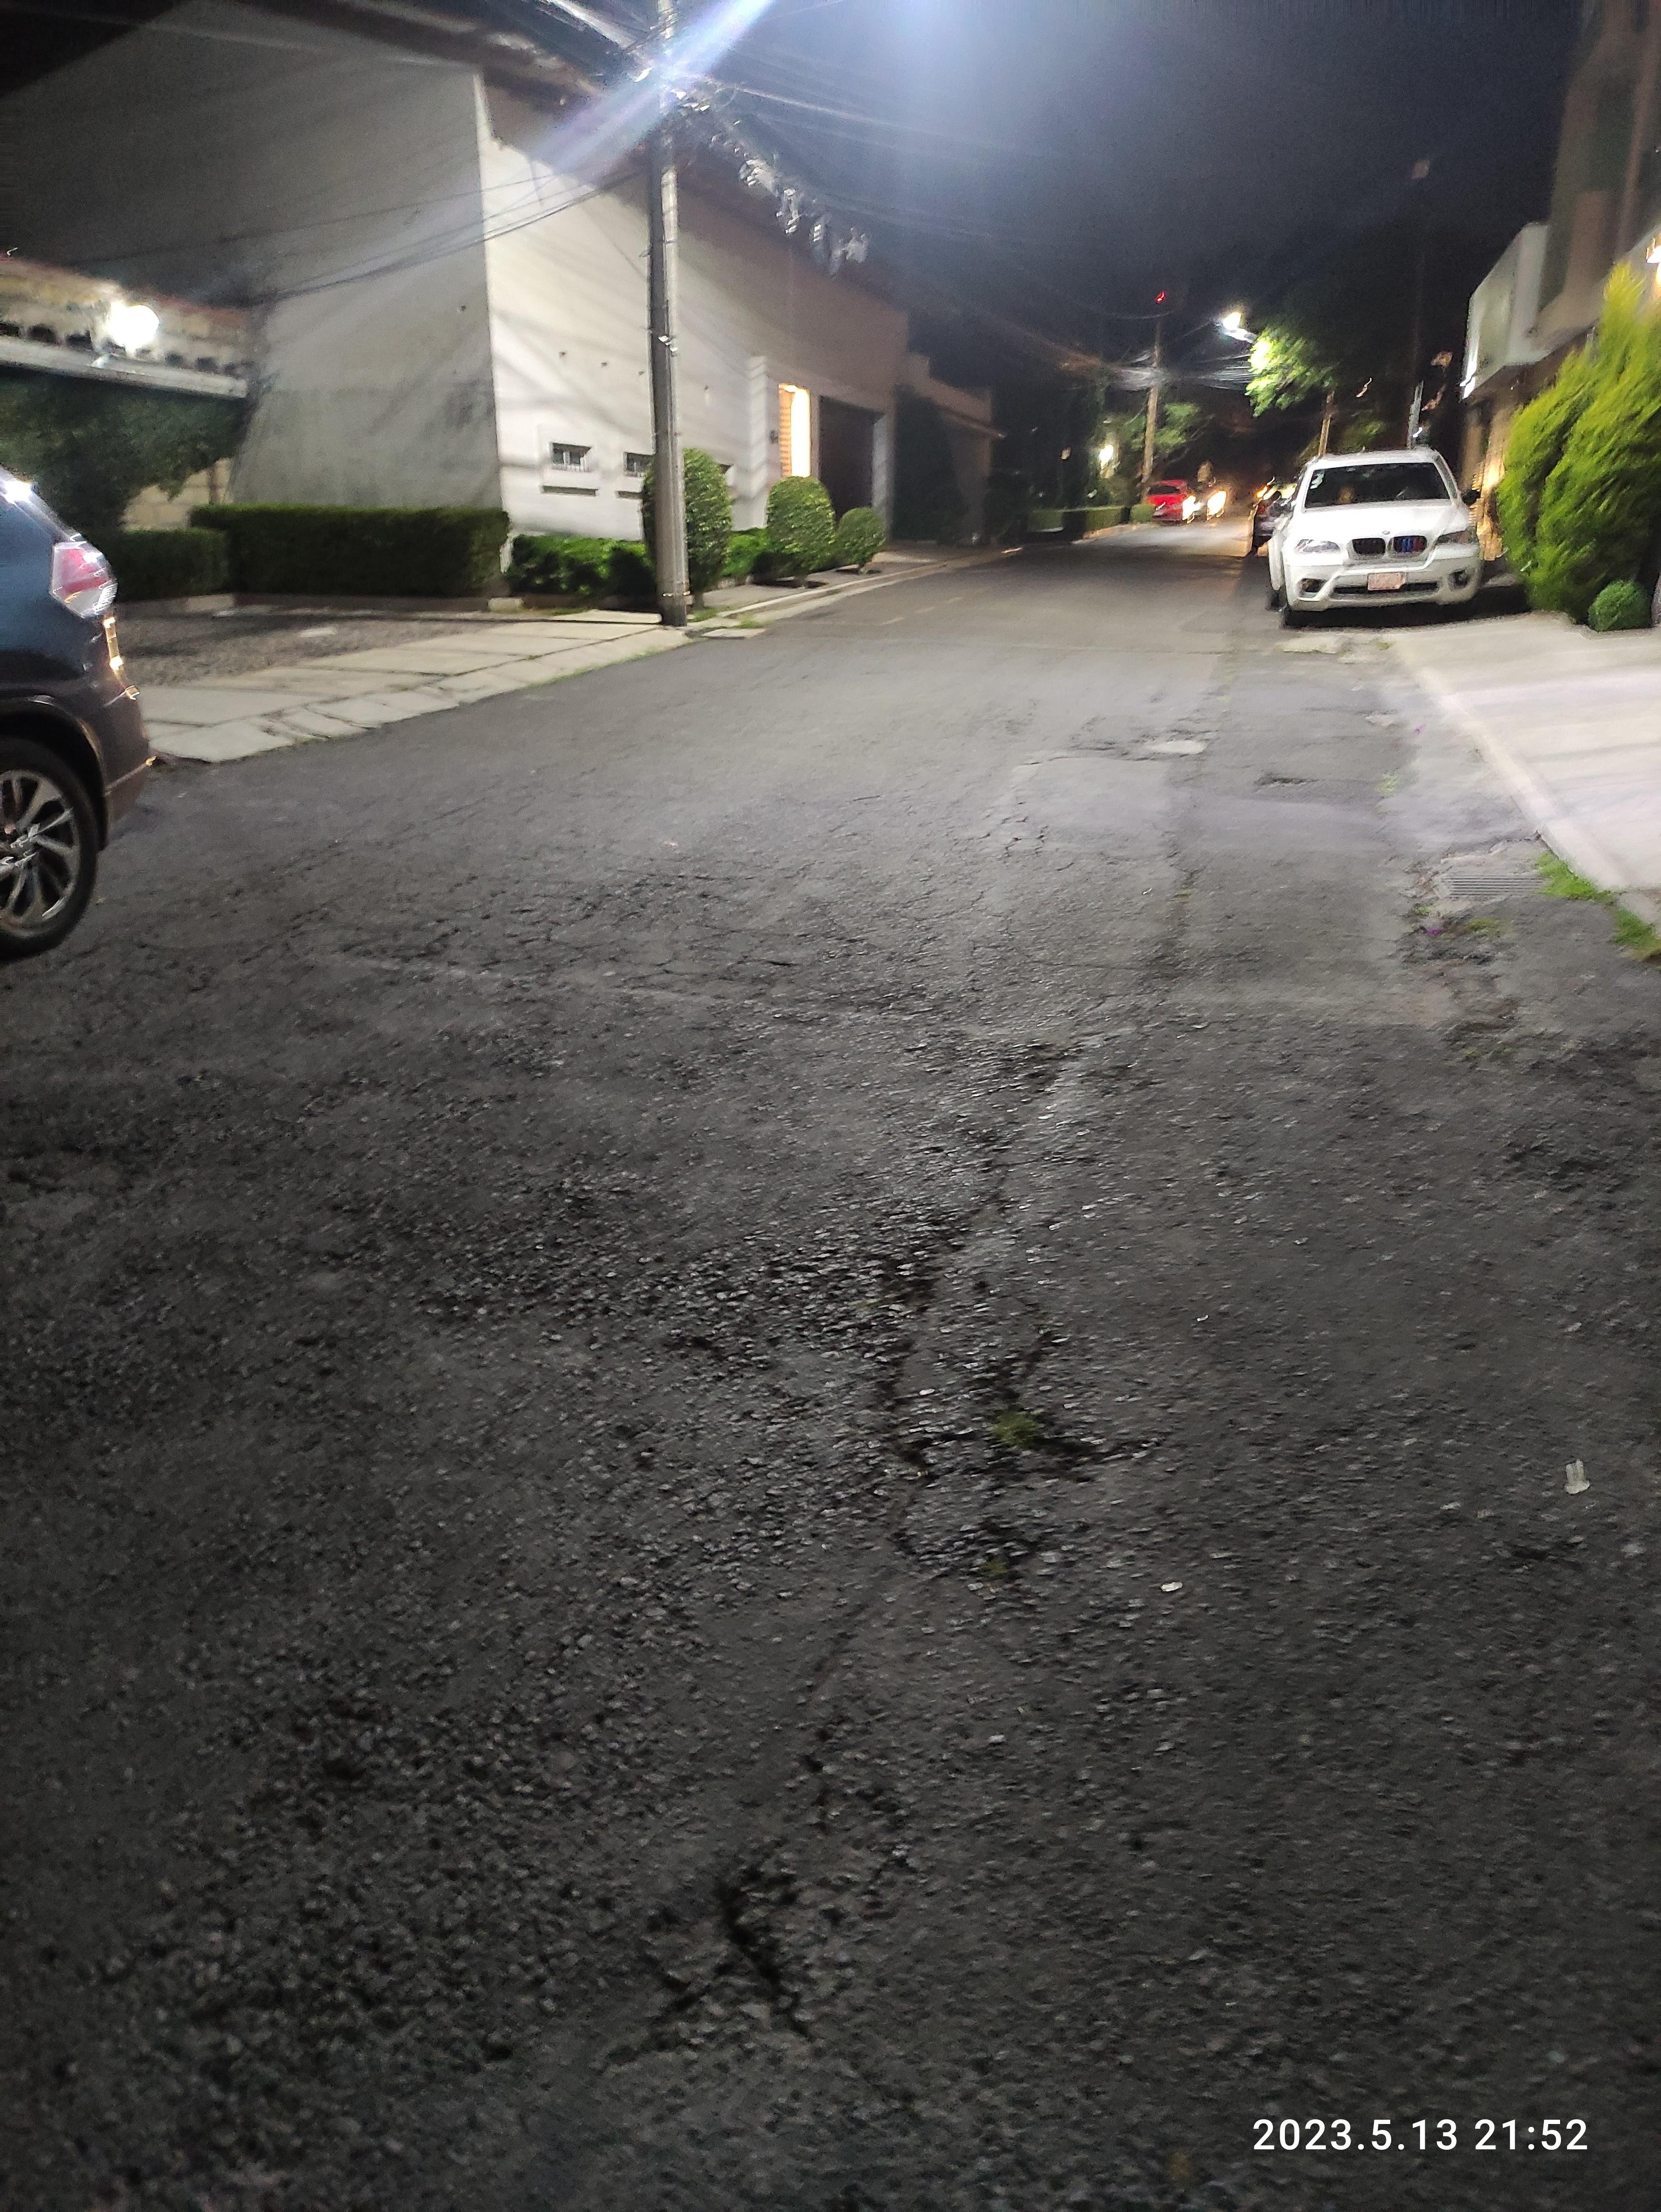crack: (87, 1682, 647, 2205), (1408, 891, 1661, 1326)
pothole: (825, 1005, 1118, 1717), (670, 1781, 916, 2130)
